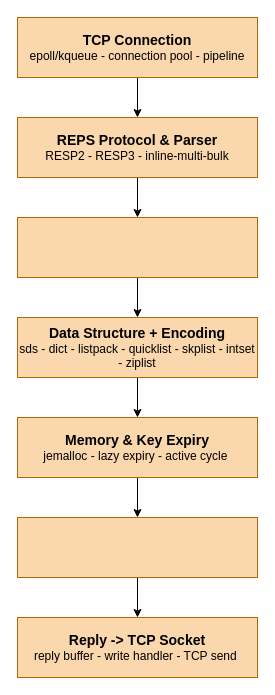
Image size: 275x695. Some labels were removed from this diagram. The shapes that lost their labels are listed below. From the top down, each one's centre as x and y in pixels, then its label:
At (137,247): "ae Event Loop single-thread - I/O multilex - timer events".
At (137,547): "Persistence (RDB / AOF) fork + COW - fsync: always/everysce/no".
